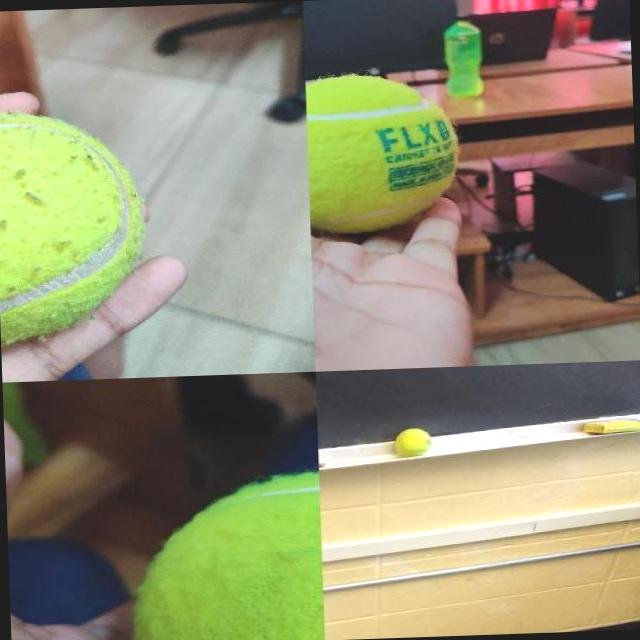Tennis Ball: (0, 106, 148, 348), (129, 470, 323, 640), (304, 71, 460, 234), (394, 426, 432, 456)
